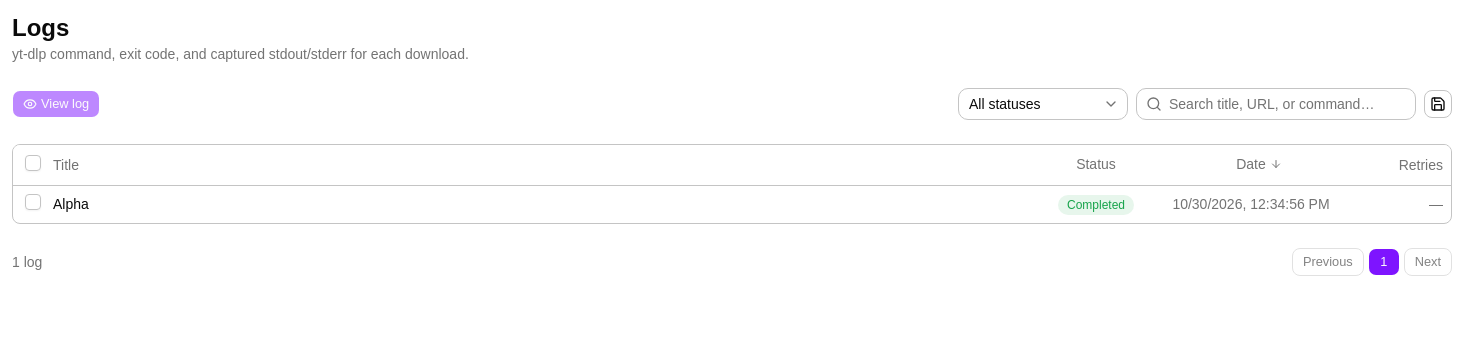
Scenario: LogsPage table › a status with no rows shows the no-match message
The width and height of the screenshot is (1464, 363).
Expected: the text "Alpha" is shown, [53,196,89,212]
What coordinates should you click on to do the following:
click the dropdown
I would click on:
 (1043, 104)
Its box is [958,88,1128,120].
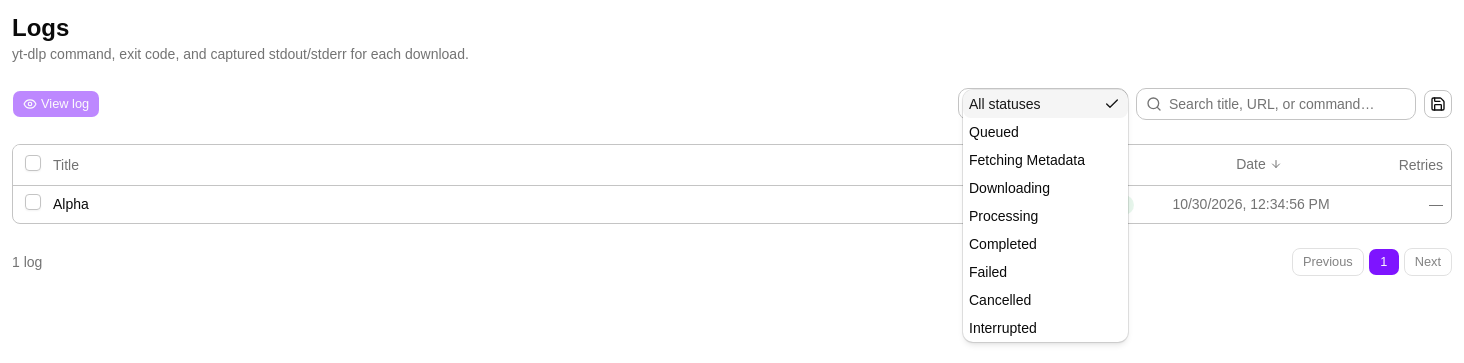
What coordinates should you click on to do the following:
click the option "Cancelled"
I would click on:
 (1000, 300)
Its box is [969,292,1031,308].
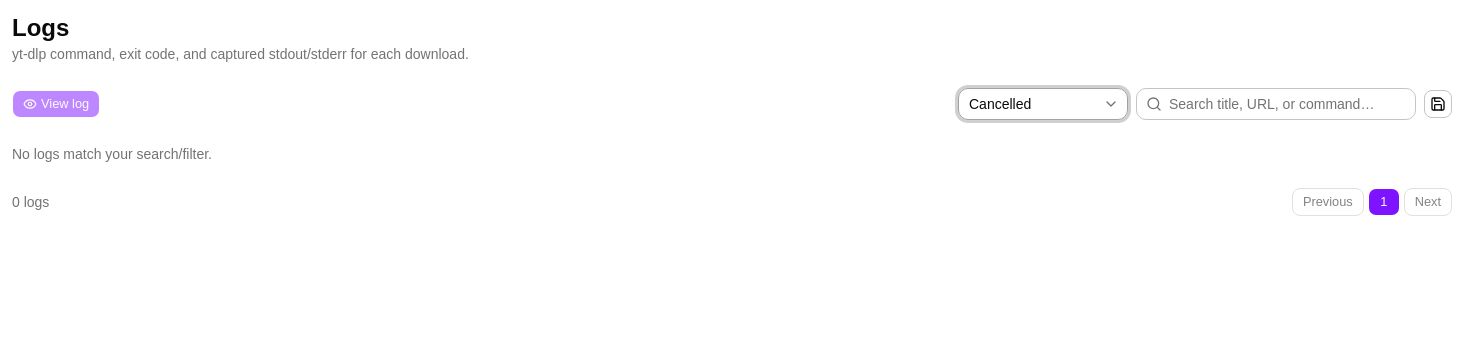
Now the text "No logs match your search/filter." is shown, box [12,146,212,162]
Now the text "0 logs" is shown, box [12,192,49,212]
